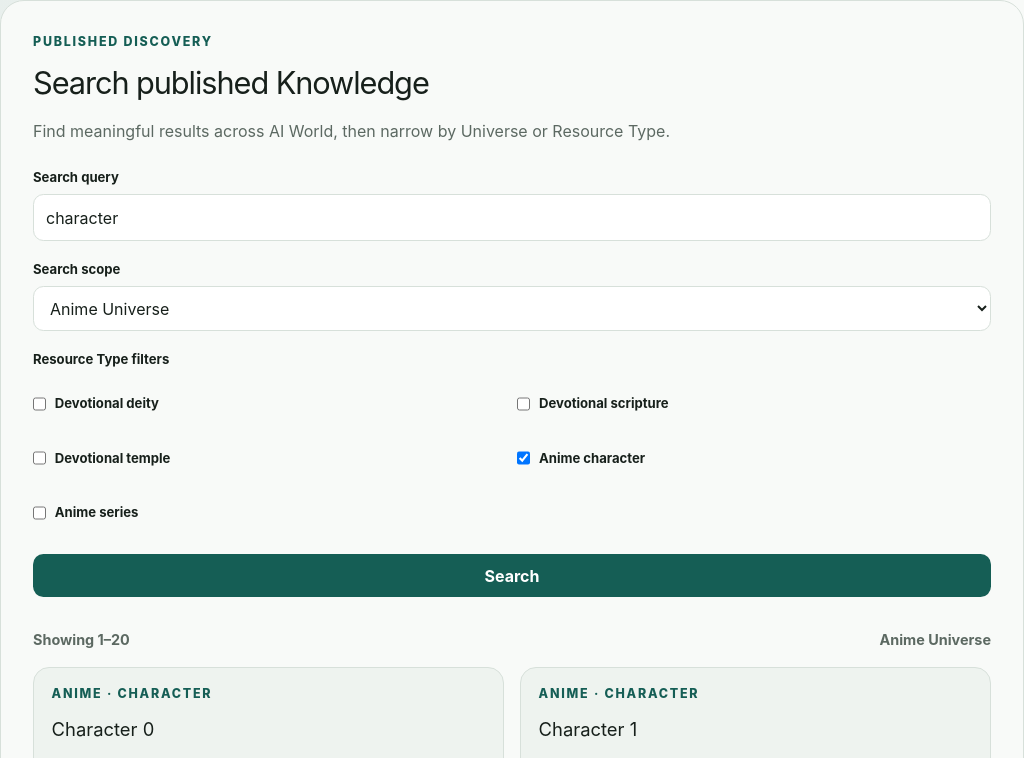
Scenario: Phase 6 Web Discovery integration › keeps pagination on committed criteria and recovers from an empty speculative page
Expected: the text "Showing 1–20" is shown, [33, 629, 130, 651]
Replace the text in the field labelled "Search query" with "temple". click: (512, 218)
box: [33, 194, 991, 241]
(page scrolled)
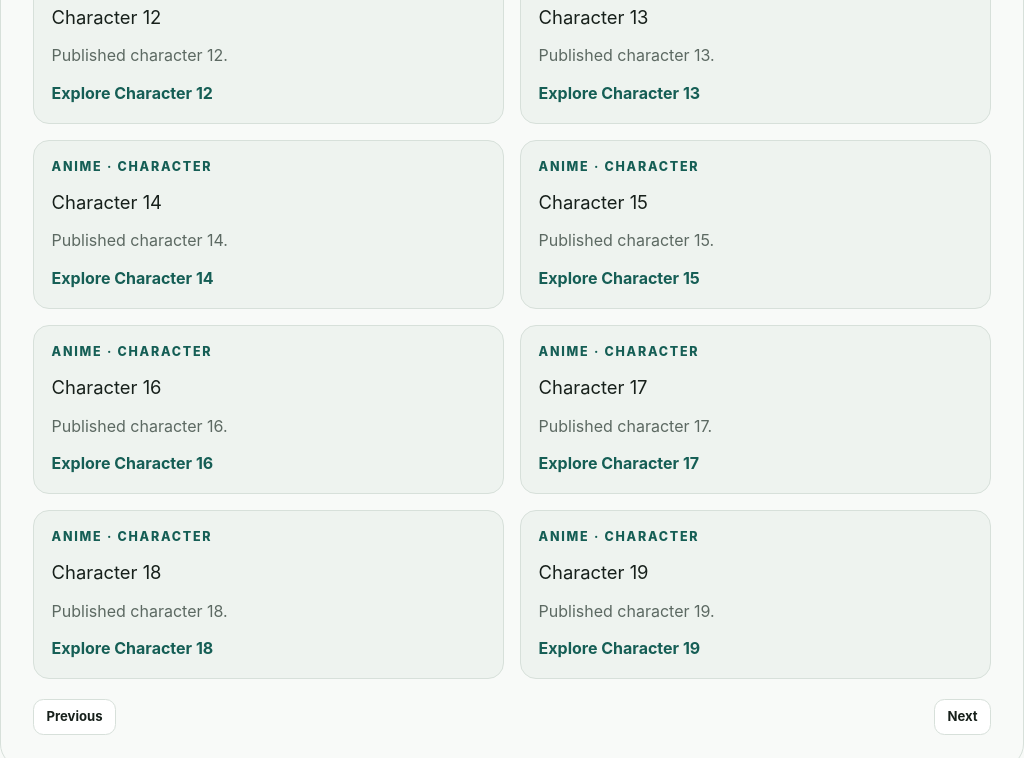
Click the button "Next". click: (962, 717)
box: [934, 699, 991, 735]
(page scrolled)
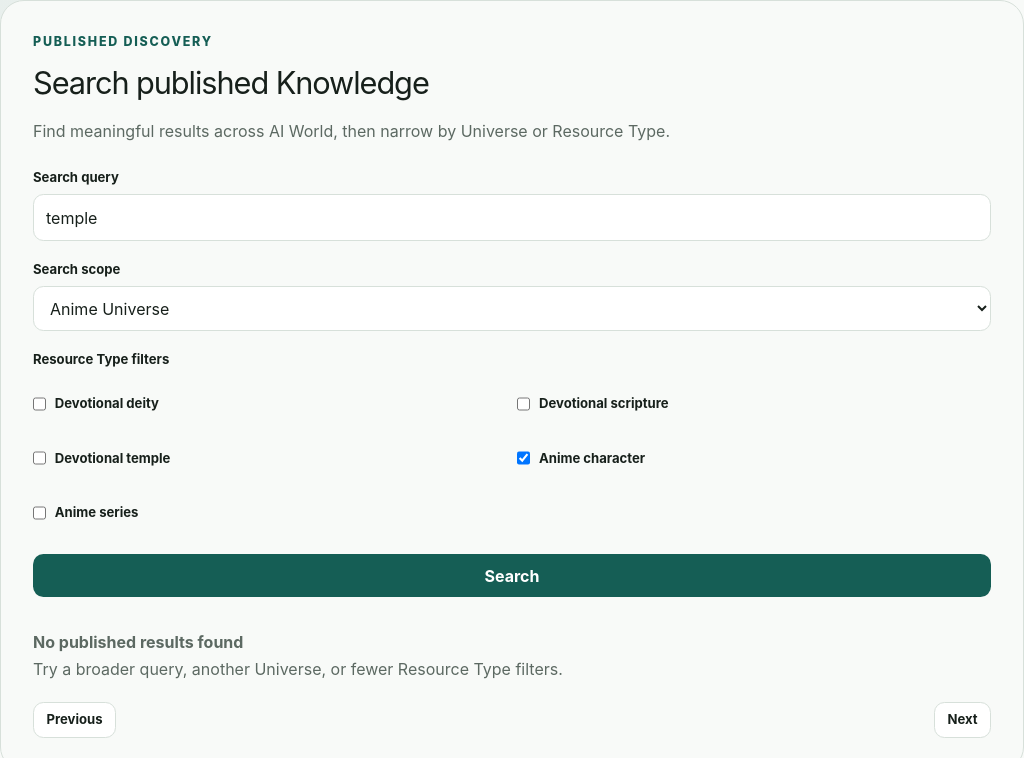
Expected: the text "No published results found" is shown, [33, 632, 243, 652]
Expected: the button "Previous" is enabled
Expected: the button "Next" is disabled, [934, 702, 991, 738]
Click the button "Previous". click: (74, 720)
box: [33, 702, 116, 738]
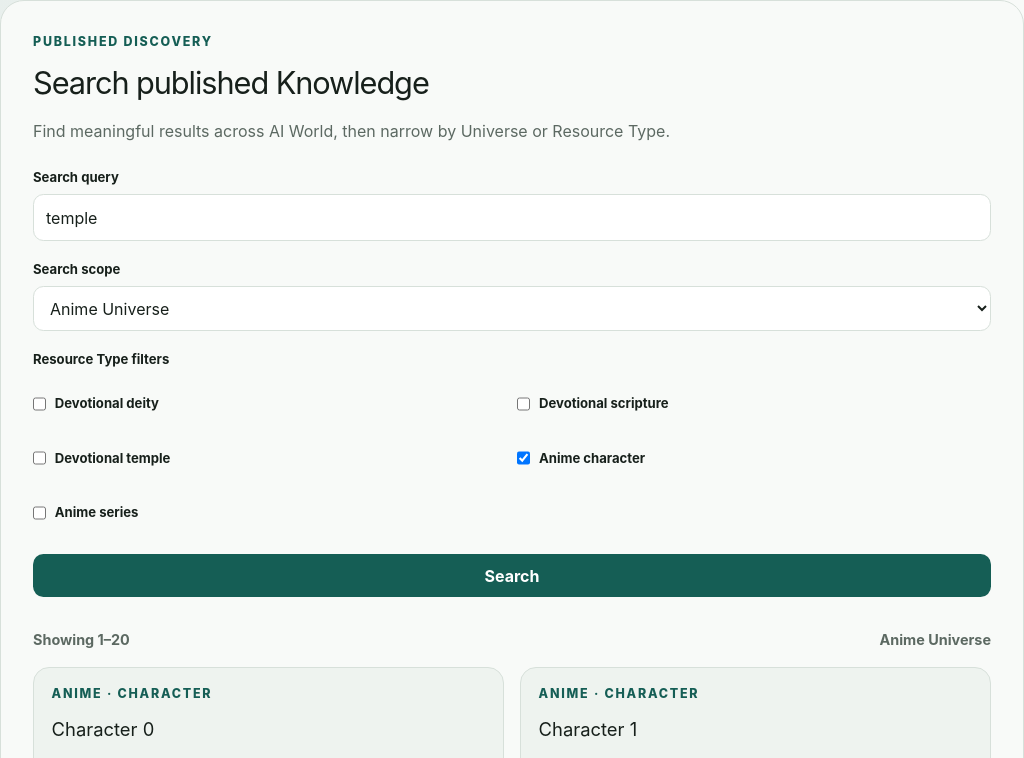
Expected: the text "Showing 1–20" is shown, [33, 629, 130, 651]
